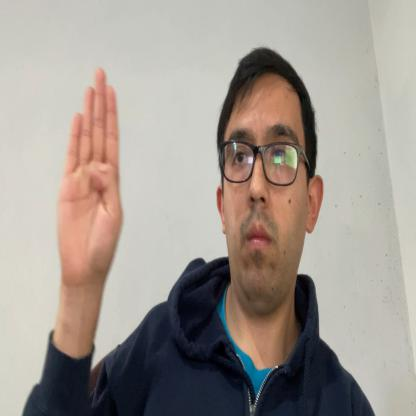B: (58, 66, 124, 286)
